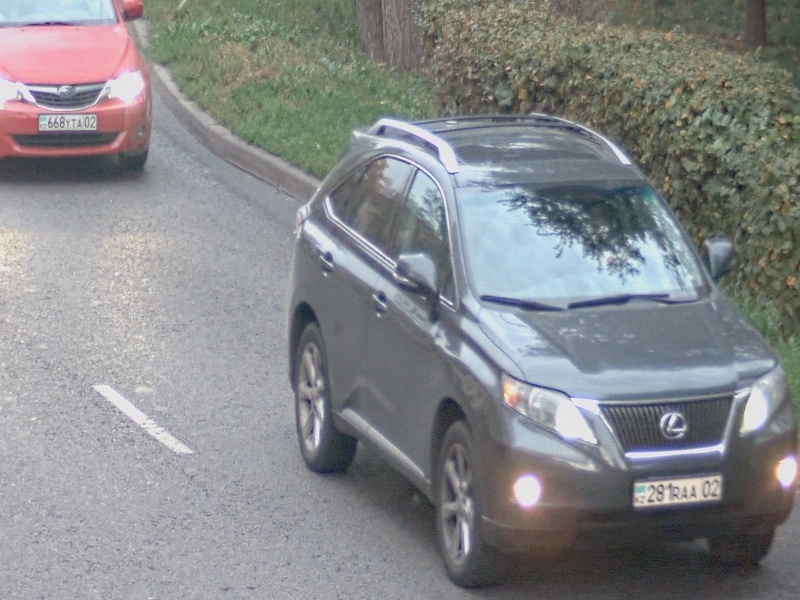plate: (632, 473, 724, 508), (38, 112, 98, 131)
